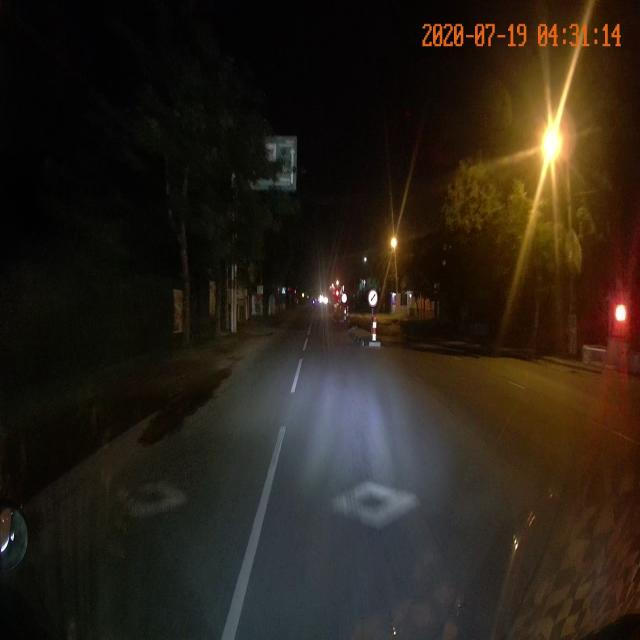diamond: (245, 469, 435, 543)
